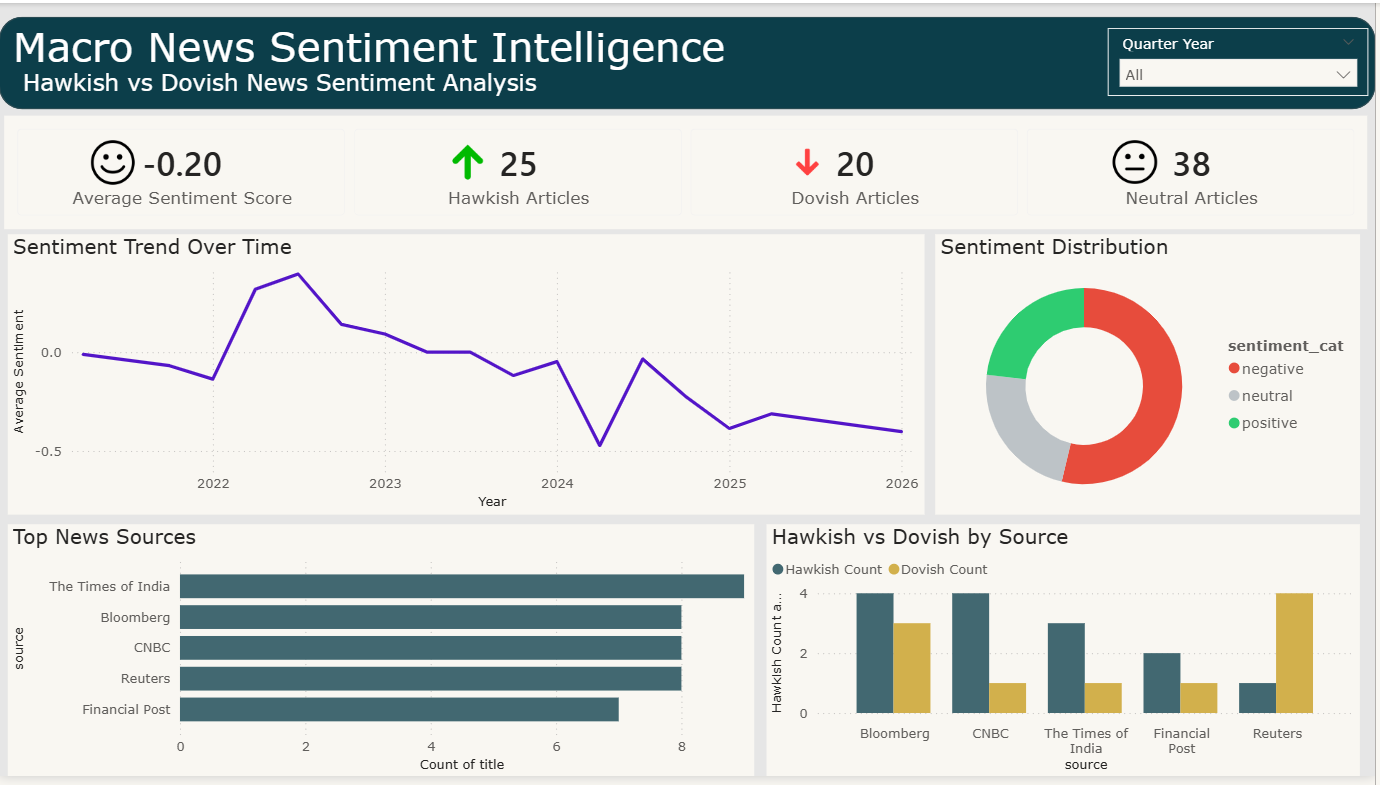

Layout of this report page (visuals, bound fields, positions):
{"tool":"powerbi","page":{"name":"Sentiment Intelligence","canvas":[1280,720],"ordinal":1},"visuals":[{"type":"shape","box":[0,12.8,1280.2,86],"z":0},{"type":"textbox","box":[8.1,12.8,682.6,57],"z":1000},{"type":"textbox","box":[17.4,55.8,493,43],"z":2000},{"type":"cardVisual","fields":{"Data":["DateTable.Average Sentiment","DateTable.Hawkish Count","DateTable.Dovish Count","DateTable.Neutral Count"]},"box":[0,100,1280.2,115.1],"z":4000},{"type":"lineChart","title":"Sentiment Trend Over Time","fields":{"Y":["DateTable.Average Sentiment"],"Category":["Fact_Sentiment.Published Date.Variation.Date Hierarchy.Year","Fact_Sentiment.Published Date.Variation.Date Hierarchy.Quarter"]},"box":[8.4,214.9,852.5,260.6],"z":5000},{"type":"donutChart","title":"Sentiment Distribution","fields":{"Category":["Fact_Sentiment.sentiment_cat"],"Y":["CountNonNull(Fact_Sentiment.title)"]},"box":[870.9,215.1,395.3,260.5],"z":6000},{"type":"clusteredBarChart","title":"Top News Sources","fields":{"Category":["Fact_Sentiment.source"],"Y":["CountNonNull(Fact_Sentiment.title)"]},"box":[8.6,484.6,694.2,235.2],"z":7000},{"type":"clusteredColumnChart","title":"Hawkish vs Dovish by Source","fields":{"Y":["DateTable.Hawkish Count","DateTable.Dovish Count"],"Category":["Fact_Sentiment.source"]},"box":[714.1,484.6,551.6,235.2],"z":8000},{"type":"image","box":[66.3,126.7,79.1,43],"z":9000},{"type":"image","box":[409.1,126.9,52.7,42.8],"z":10000},{"type":"image","box":[725.5,126.9,52.7,42.8],"z":11000},{"type":"image","box":[1030.6,126.9,52.7,42.8],"z":12000},{"type":"slicer","fields":{"Values":["Fact_Sentiment.Quarter Year"]},"box":[1031,23.8,242.7,63.5],"z":13000}]}

Visuals, with their boxes in screenshot pixels (x1, y1, x2, y2), scaled from the page's 1280x720 canvas onto the 1380x785 screenshot:
shape: x1=0, y1=14, x2=1379, y2=108
textbox: x1=9, y1=14, x2=745, y2=76
textbox: x1=19, y1=61, x2=550, y2=108
cardVisual - DateTable.Average Sentiment x DateTable.Hawkish Count: x1=0, y1=109, x2=1379, y2=235
"Sentiment Trend Over Time" lineChart: x1=9, y1=234, x2=928, y2=518
"Sentiment Distribution" donutChart: x1=939, y1=235, x2=1365, y2=519
"Top News Sources" clusteredBarChart: x1=9, y1=528, x2=758, y2=784
"Hawkish vs Dovish by Source" clusteredColumnChart: x1=770, y1=528, x2=1365, y2=784
image: x1=71, y1=138, x2=157, y2=185
image: x1=441, y1=138, x2=498, y2=185
image: x1=782, y1=138, x2=839, y2=185
image: x1=1111, y1=138, x2=1168, y2=185
slicer - Fact_Sentiment.Quarter Year: x1=1112, y1=26, x2=1373, y2=95
